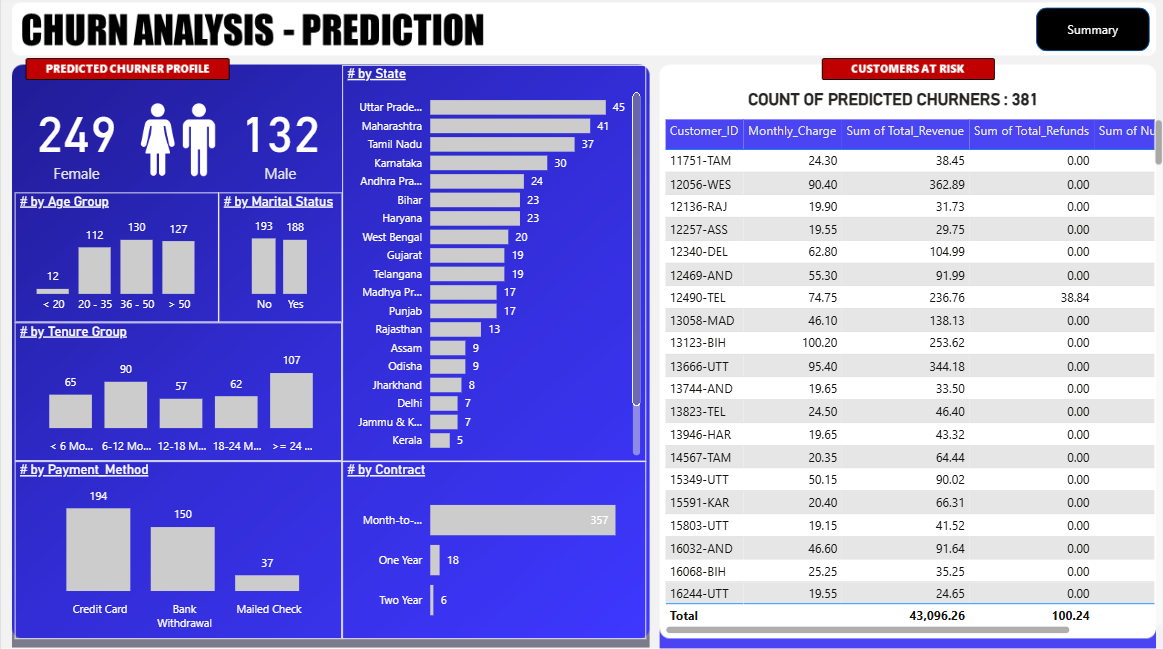

This screenshot's page, from the dashboard's own definition file:
{"tool":"powerbi","page":{"name":"Churn Prediction","canvas":[1280,720],"ordinal":2},"visuals":[{"type":"tableEx","fields":{"Values":["Predictions.Customer_ID","Predictions.Monthly_Charge","Sum(Predictions.Total_Revenue)","Sum(Predictions.Total_Refunds)","Sum(Predictions.Number_of_Referrals)"]},"box":[723.2,131.7,557.1,575],"z":0},{"type":"card","fields":{"Values":["tbl_Measures.Title Predicted Churner"]},"box":[794.5,97.4,370.5,34.3],"z":1000},{"type":"card","fields":{"Values":["tbl_Measures.Count Predicted Churner"]},"box":[15.1,97.4,135.8,119.4],"z":2000},{"type":"card","fields":{"Values":["tbl_Measures.Count Predicted Churner"]},"box":[238.8,97.4,135.8,119.4],"z":3000},{"type":"clusteredColumnChart","fields":{"Category":["Mapping_AgeGrp.Age Group "],"Y":["CountNonNull(Predictions.Customer_ID)"]},"box":[15.1,216.8,223.7,142.7],"z":4000},{"type":"clusteredColumnChart","fields":{"Y":["CountNonNull(Predictions.Customer_ID)"],"Category":["Predictions.Married"]},"box":[238.8,216.8,135.8,142.7],"z":5000},{"type":"clusteredColumnChart","fields":{"Y":["CountNonNull(Predictions.Customer_ID)"],"Category":["Mapping_TenureGrp.Tenure Group"]},"box":[15.1,359.5,359.5,152.3],"z":6000},{"type":"clusteredColumnChart","fields":{"Y":["CountNonNull(Predictions.Customer_ID)"],"Category":["Predictions.Payment_Method"]},"box":[15.1,511.8,359.5,194.9],"z":7000},{"type":"clusteredBarChart","fields":{"Category":["Predictions.Contract"],"Y":["CountNonNull(Predictions.Customer_ID)"]},"box":[374.6,511.8,333.4,194.9],"z":8000},{"type":"clusteredBarChart","fields":{"Y":["CountNonNull(Predictions.Customer_ID)"],"Category":["Predictions.State"]},"box":[374.6,76.8,333.4,435],"z":9000},{"type":"image","box":[138.6,100.2,111.1,116.6],"z":10000},{"type":"shape","box":[1136.2,13.7,124.9,48],"z":11000}]}

Visuals, with their boxes in screenshot pixels (x1, y1, x2, y2), scaled from the page's 1280x720 canvas onto the 1163x649 screenshot:
tableEx - Predictions.Customer_ID x Predictions.Monthly_Charge: box=[657, 119, 1162, 637]
card - tbl_Measures.Title Predicted Churner: box=[722, 88, 1059, 119]
card - tbl_Measures.Count Predicted Churner: box=[14, 88, 137, 195]
card - tbl_Measures.Count Predicted Churner: box=[217, 88, 340, 195]
clusteredColumnChart - Mapping_AgeGrp.Age Group  x CountNonNull(Predictions.Customer_ID): box=[14, 195, 217, 324]
clusteredColumnChart - CountNonNull(Predictions.Customer_ID) x Predictions.Married: box=[217, 195, 340, 324]
clusteredColumnChart - CountNonNull(Predictions.Customer_ID) x Mapping_TenureGrp.Tenure Group: box=[14, 324, 340, 461]
clusteredColumnChart - CountNonNull(Predictions.Customer_ID) x Predictions.Payment_Method: box=[14, 461, 340, 637]
clusteredBarChart - Predictions.Contract x CountNonNull(Predictions.Customer_ID): box=[340, 461, 643, 637]
clusteredBarChart - CountNonNull(Predictions.Customer_ID) x Predictions.State: box=[340, 69, 643, 461]
image: box=[126, 90, 227, 195]
shape: box=[1032, 12, 1146, 56]
